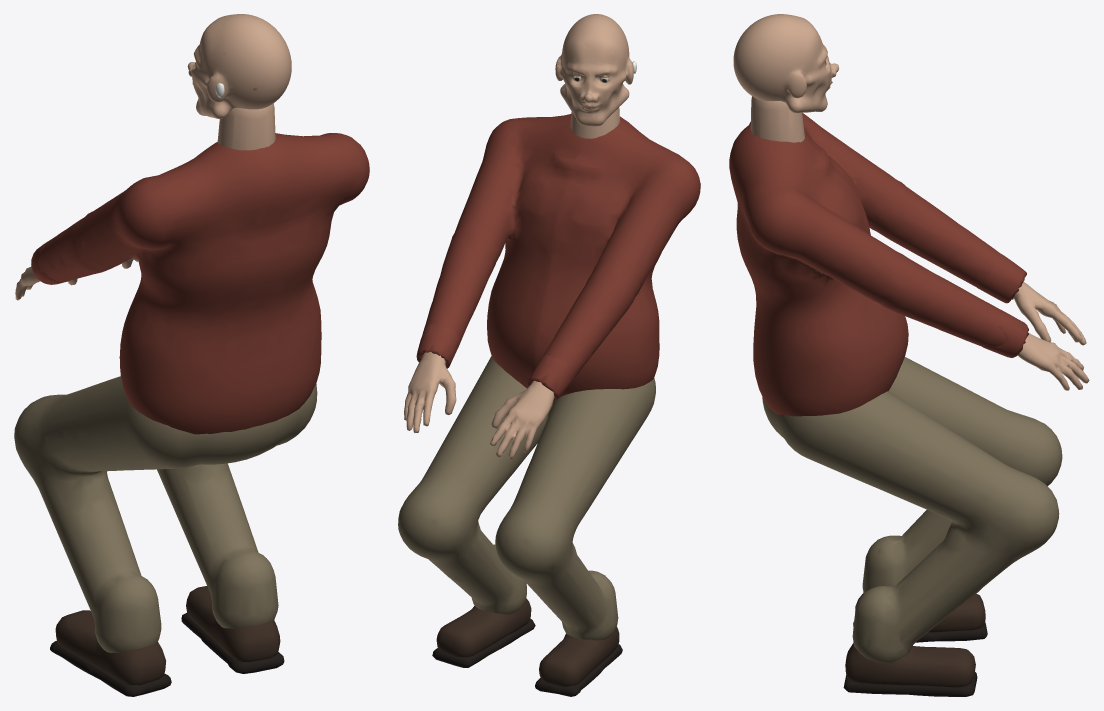
Rendered from hearing_aid.glb.
3 views of the same model, side by side, from view 1: azimuth 30°, elevation 25°; view 2: azimuth 150°, elevation 25°; view 3: azimuth 270°, elevation 25° (orthographic). The views are drawn at different scales.
Visible parts, largest first — view 1: hearing_aid_body, hearing_aid_head, hearing_aid_hands; view 2: hearing_aid_body, hearing_aid_hands, hearing_aid_head; view 3: hearing_aid_body, hearing_aid_head, hearing_aid_hands.
Part boxes in pixels (<box>): hearing_aid_body: <box>14,103,369,696</box>; hearing_aid_head: <box>187,14,291,118</box>; hearing_aid_hands: <box>15,240,138,300</box>; hearing_aid_body: <box>398,107,700,696</box>; hearing_aid_hands: <box>404,324,574,458</box>; hearing_aid_head: <box>555,14,636,126</box>; hearing_aid_body: <box>729,96,1062,696</box>; hearing_aid_head: <box>733,14,839,113</box>; hearing_aid_hands: <box>976,254,1089,390</box>.
Size of the model in its own units: 0.5167 by 1.43 by 0.7245.
